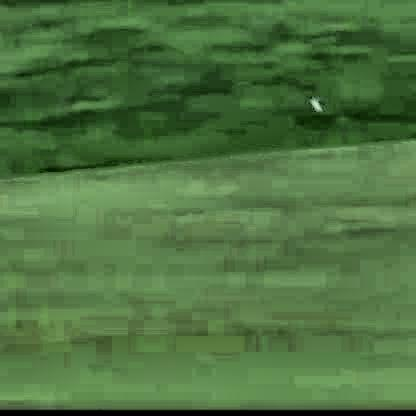golfball: (305, 97, 323, 113)
